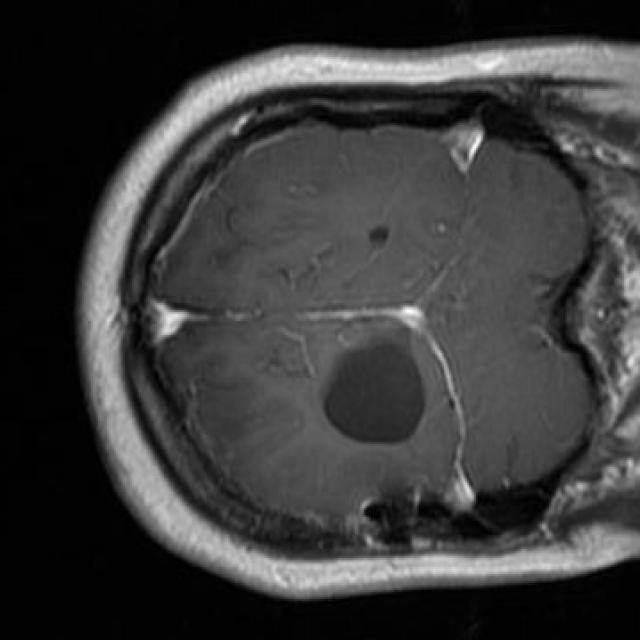glioma: (321, 339, 424, 444)
